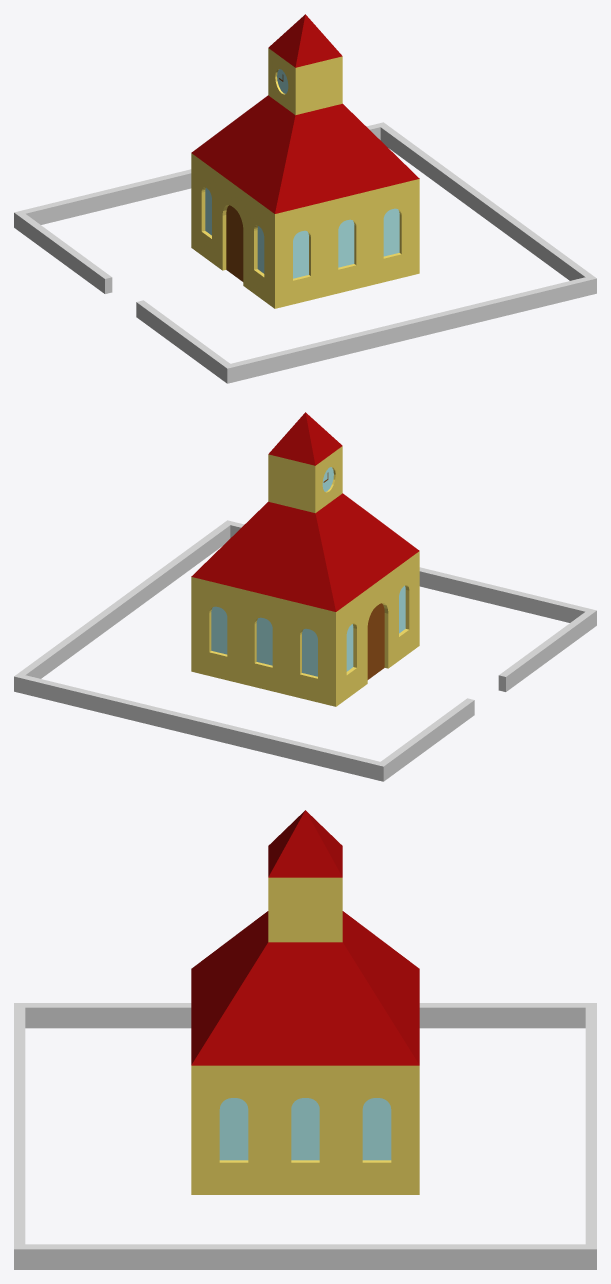
File: chapel.fbx
3 renders of one model, top to bottom at view 1: azimuth 30°, elevation 25°; view 2: azimuth 150°, elevation 25°; view 3: azimuth 270°, elevation 25°, orthographic. The views are drawn at different scales.
Parts seen in each view (by area): view 1: Chapel, Bush; view 2: Chapel, Bush; view 3: Chapel, Bush.
Boxes of the visible parts, x1,y1,x2,y2 form: Chapel: [191, 14, 419, 308]; Bush: [14, 122, 596, 383]; Chapel: [191, 412, 419, 706]; Bush: [14, 520, 596, 781]; Chapel: [191, 810, 419, 1194]; Bush: [14, 1003, 596, 1269].
Size of the model in its own units: 3060 by 1950 by 3060.
